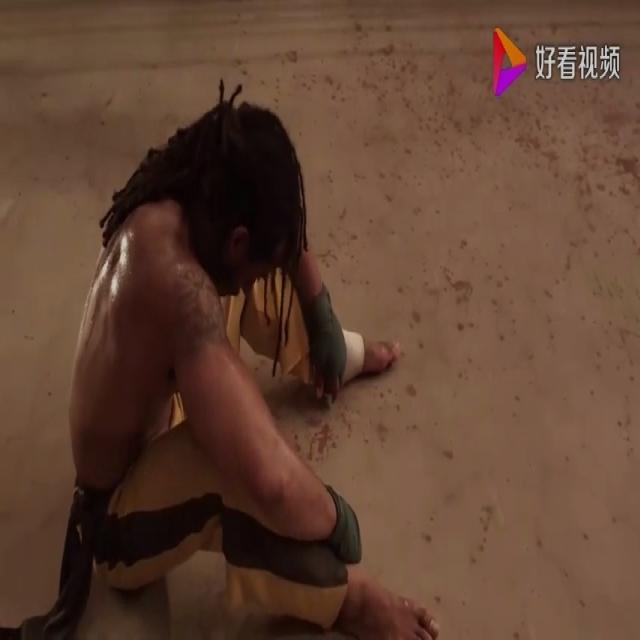non-fight: (57, 69, 444, 640)
